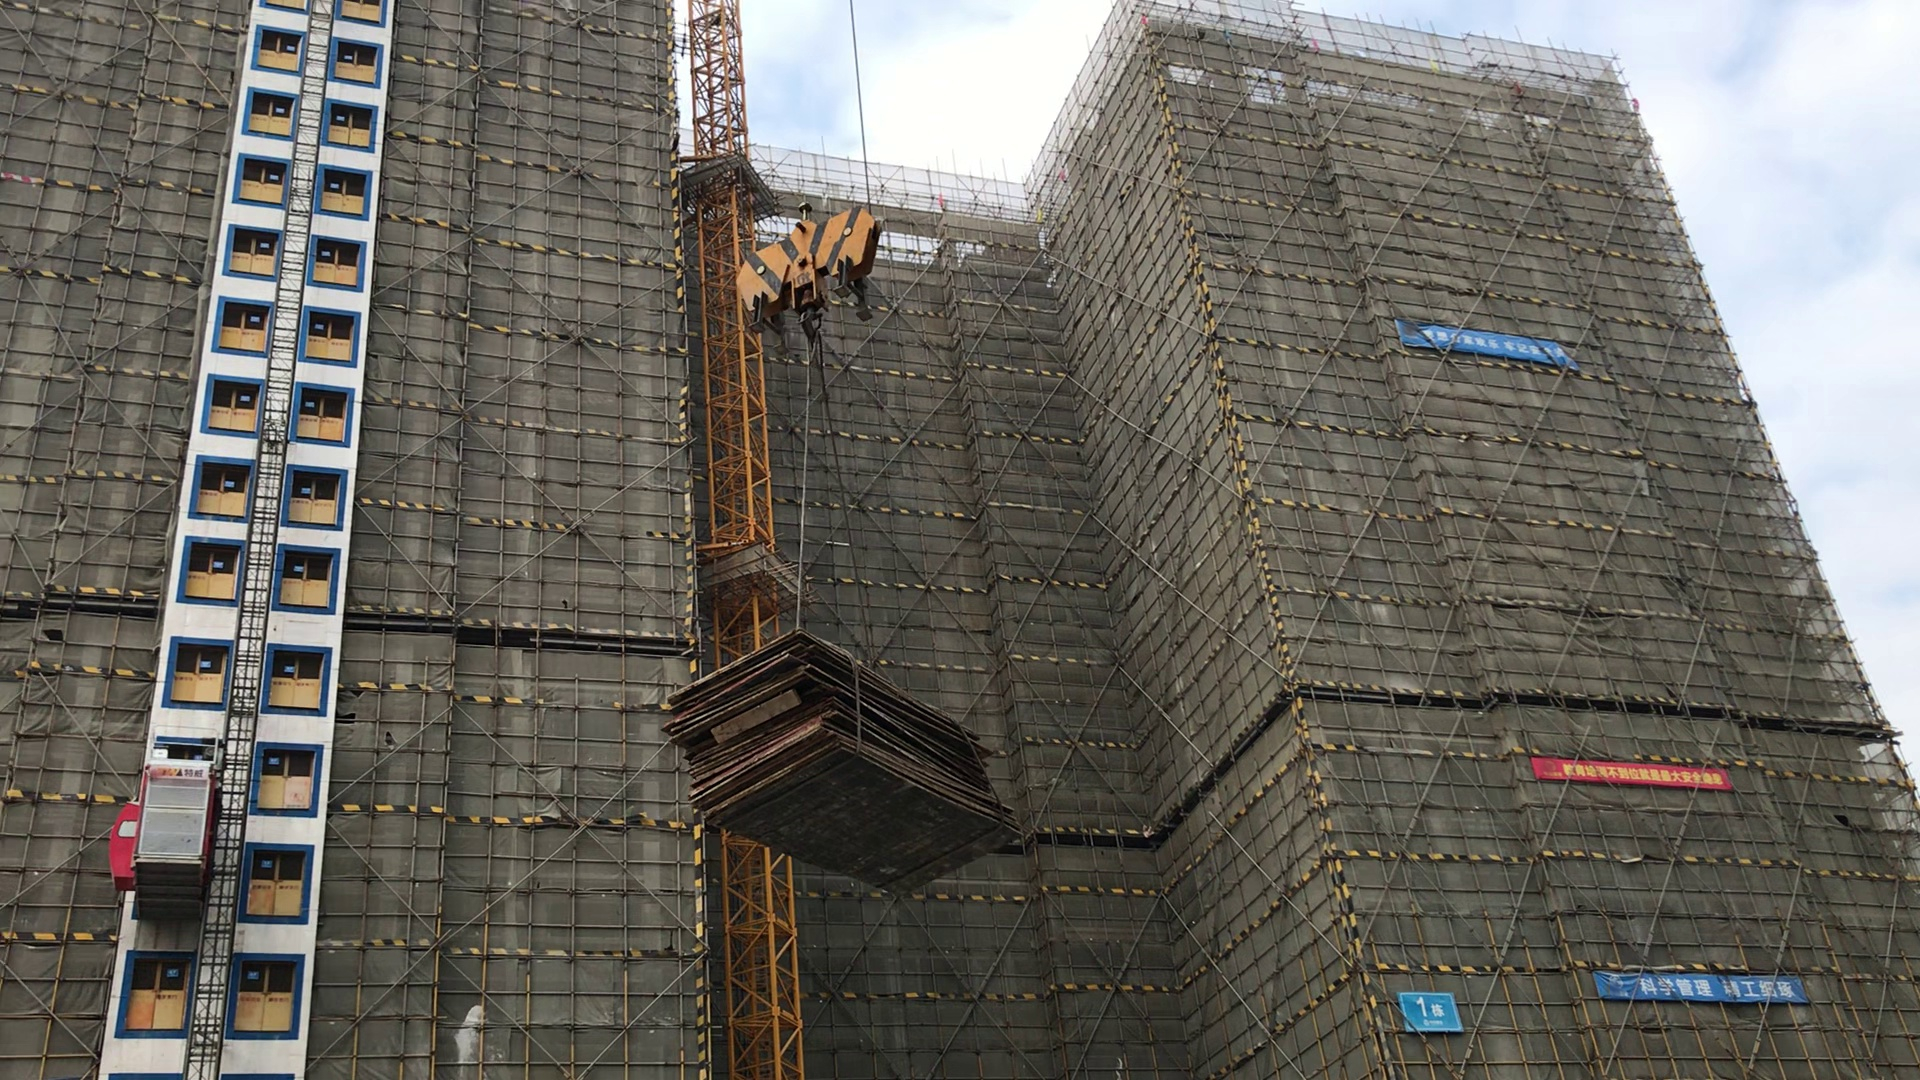board: (654, 628, 1025, 909)
hook: (740, 206, 882, 347)
slogan: (1393, 318, 1578, 375), (1586, 968, 1813, 1011), (1527, 752, 1738, 795)
